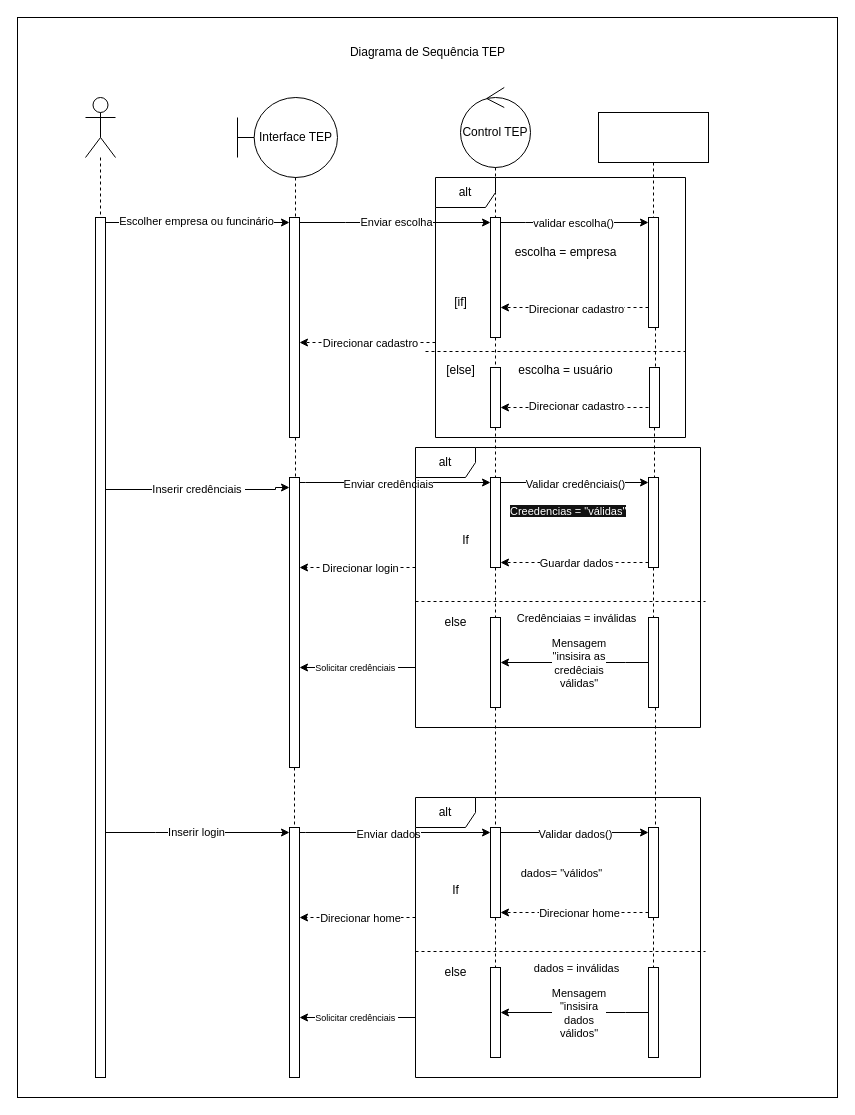
The diagram is 855 pixels wide and 1115 high, and some of its shapes have lost their labels. The shapes that lost their labels are listed below. From the top down, each one's box as (x1, y1, x2, y2) in pixels, then its label:
(84, 96, 116, 158): Usuário
(598, 112, 708, 162): Sistema TEP
